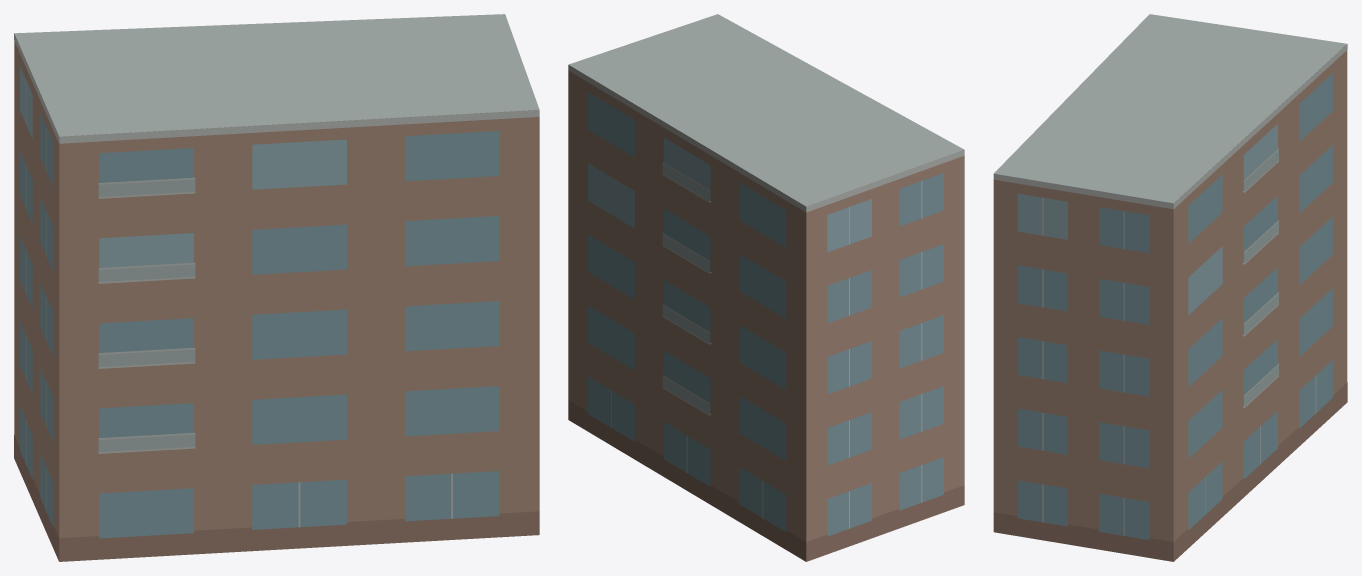
The model's file is survey-upis-33024901.glb.
The picture shows the model from 3 angles, left to right: view 1: azimuth 30°, elevation 25°; view 2: azimuth 150°, elevation 25°; view 3: azimuth 270°, elevation 25°; orthographic projection. The views are drawn at different scales.
Parts seen in each view (by area): view 1: survey-upis-33024901.tmp; view 2: survey-upis-33024901.tmp; view 3: survey-upis-33024901.tmp.
Boxes of the visible parts, x1=… form: survey-upis-33024901.tmp: x1=14, y1=14, x2=539, y2=561; survey-upis-33024901.tmp: x1=568, y1=14, x2=964, y2=561; survey-upis-33024901.tmp: x1=993, y1=14, x2=1347, y2=561.
Size of the model in its own units: 16.66 by 14.7 by 13.16.
